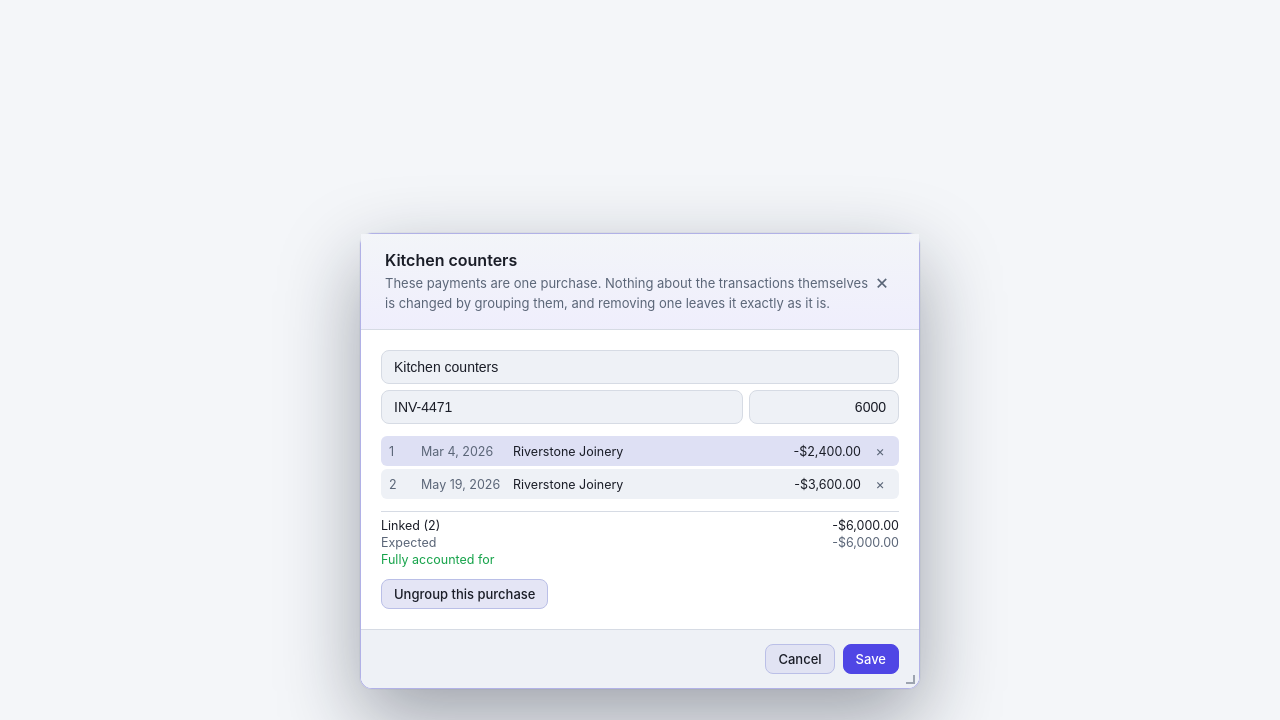
Test: repairing a purchase › asks before removing a payment, and warns when it would ungroup the purchase
Expected: the text "Kitchen counters" is shown, top-left (385, 250), bottom-right (517, 270)
Step 1. Click the button named "Remove this payment from the purchase" → (880, 451), box top-left (869, 440), bottom-right (891, 462)
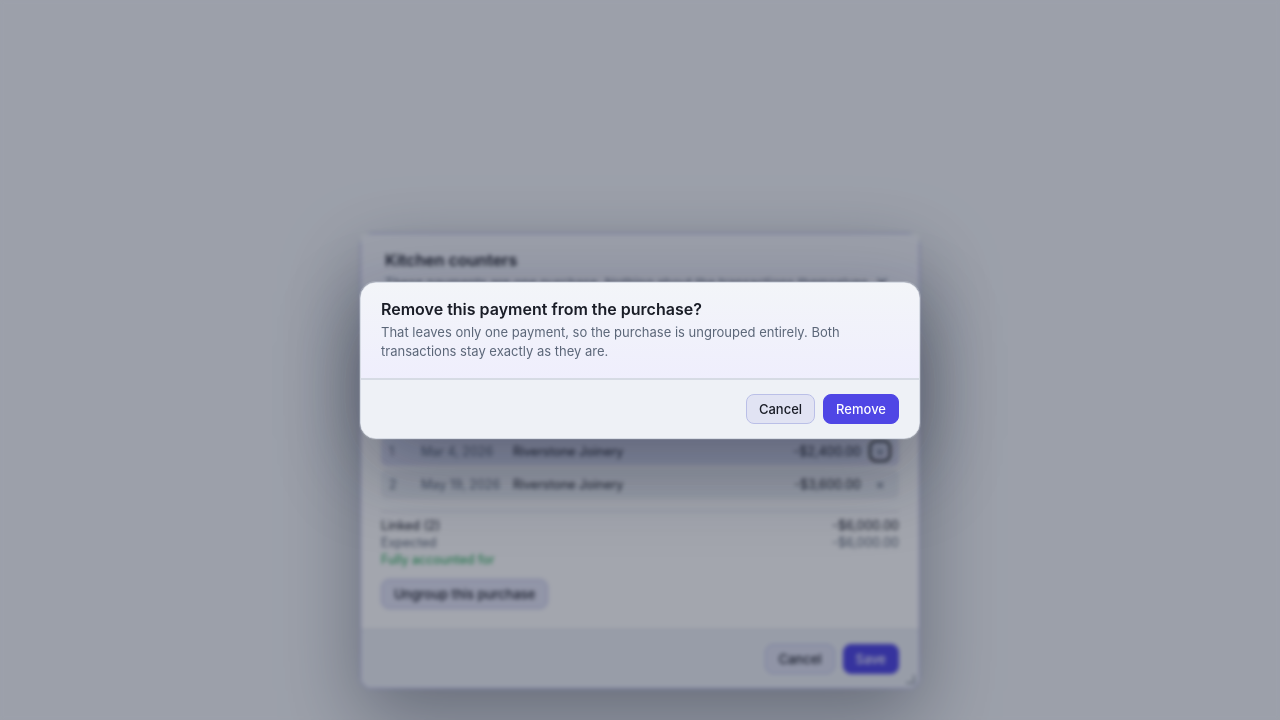
Result: the text "leaves only one payment" is shown at top-left (381, 324), bottom-right (840, 359)
